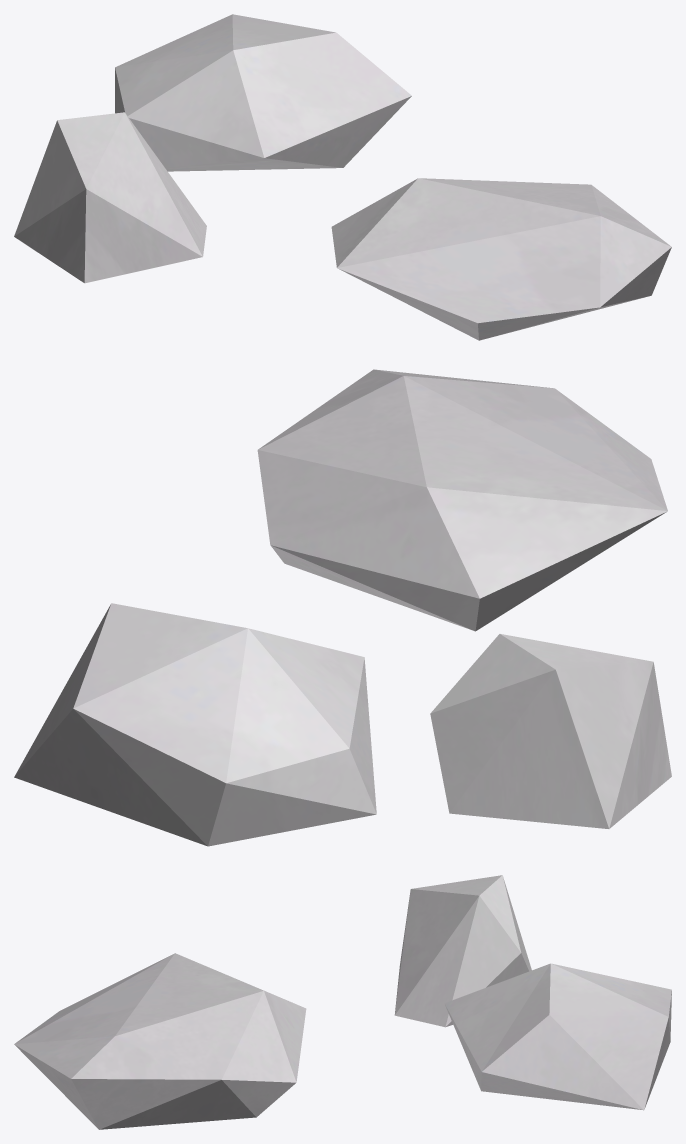
File: rock-small-a.glb
3 views of the same model, one above another, from view 1: azimuth 30°, elevation 25°; view 2: azimuth 150°, elevation 25°; view 3: azimuth 270°, elevation 25° (orthographic). The views are drawn at different scales.
Visible parts, largest first — view 1: prop_18f25ae4; view 2: prop_18f25ae4; view 3: prop_18f25ae4.
Part boxes in pixels (x1,y1,x2,y2): prop_18f25ae4: [14, 14, 671, 340]; prop_18f25ae4: [14, 369, 671, 846]; prop_18f25ae4: [14, 875, 671, 1129].
Bounding box in the file's own units: 1.11 × 0.2988 × 1.67.
1 material, 1 textured.
